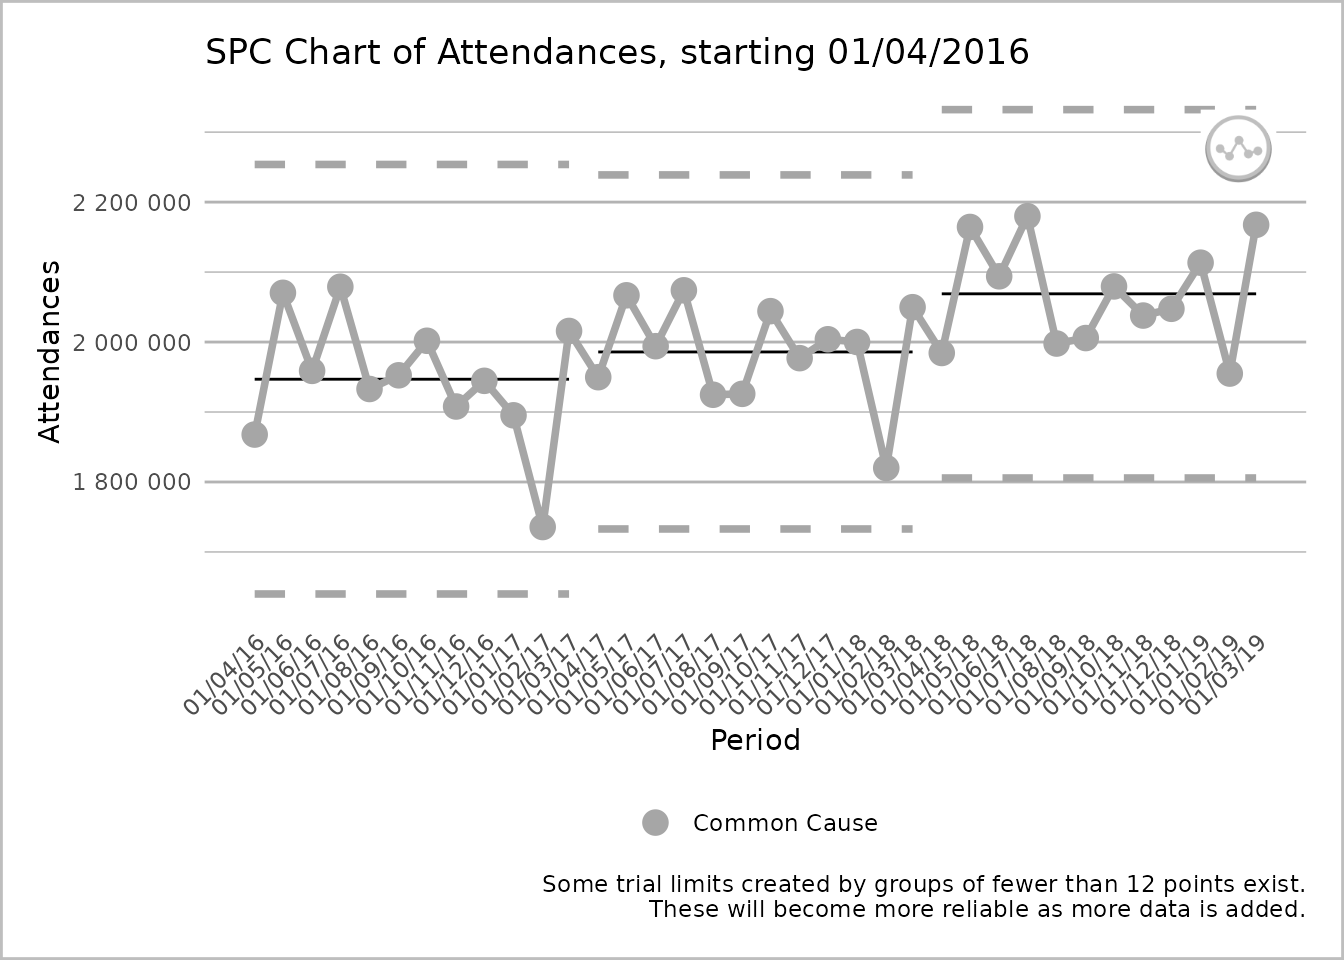

What the dashboard file says about the page in this screenshot:
{"tool":"powerbi","page":{"name":"Simple Example","canvas":[1280,720],"ordinal":0},"visuals":[{"type":"xmrspcplotthedots2FD6DE3F139F480F8B0CFC006078D180","fields":{"Values":["spc_test - Sheet2.baseline_duration","spc_test - Sheet2.date","spc_test - Sheet2.comment","spc_test - Sheet2.improvement_direction","spc_test - Sheet2.recalc_here","Sum(spc_test - Sheet2.target)","Sum(spc_test - Sheet2.value)","spc_test - Sheet2.what"]},"box":[10,36,1255,653],"z":0}]}

Visuals, with their boxes on the page's 1280x720 design canvas (x1, y1, x2, y2). These are canvas units, not pixel positions in the 1344x960 screenshot, which may show the page scaled, cropped or inside an application window:
xmrspcplotthedots2FD6DE3F139F480F8B0CFC006078D180 - spc_test - Sheet2.baseline_duration x spc_test - Sheet2.date: 10/36/1265/689
